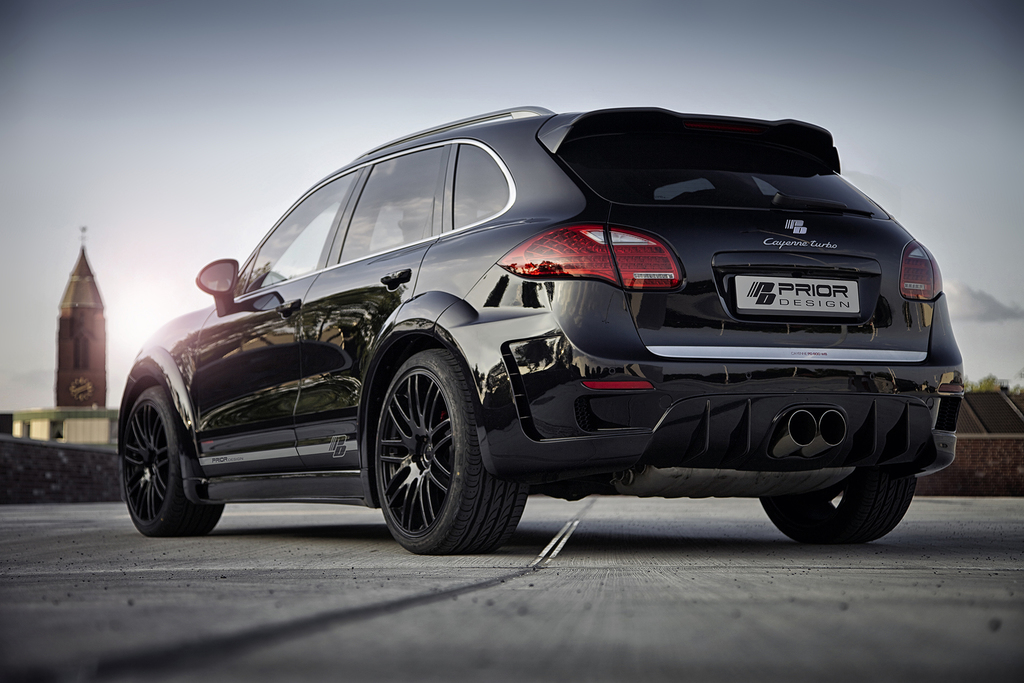Car: (112, 101, 962, 552)
